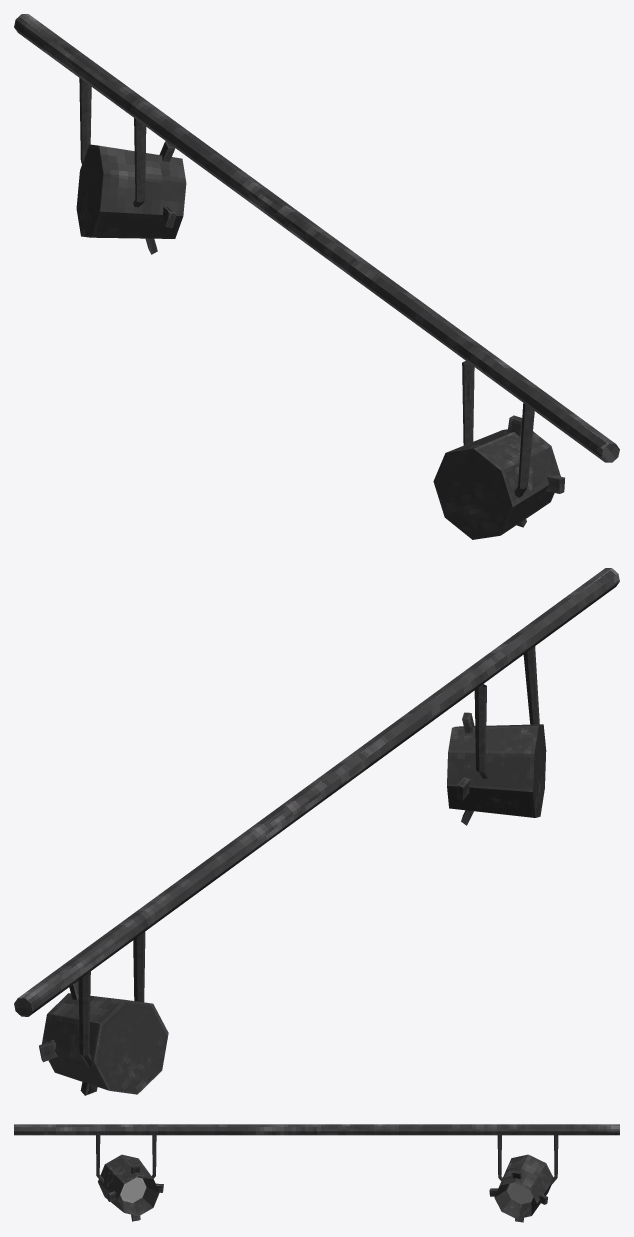
The model's file is SM_Stage_LightStrip.glb.
3 views of the same model, one above another, from view 1: azimuth 30°, elevation 25°; view 2: azimuth 150°, elevation 25°; view 3: azimuth 270°, elevation 25° (orthographic). The views are drawn at different scales.
Visible parts, largest first — view 1: SM_Stage_LightStrip; view 2: SM_Stage_LightStrip; view 3: SM_Stage_LightStrip.
Part boxes in pixels (x1,y1,x2,y2): SM_Stage_LightStrip: [14, 14, 619, 539]; SM_Stage_LightStrip: [14, 568, 619, 1095]; SM_Stage_LightStrip: [14, 1124, 619, 1222].
Size of the model in its own units: 1.09 by 1.6 by 9.78.
1 material, 1 textured.
